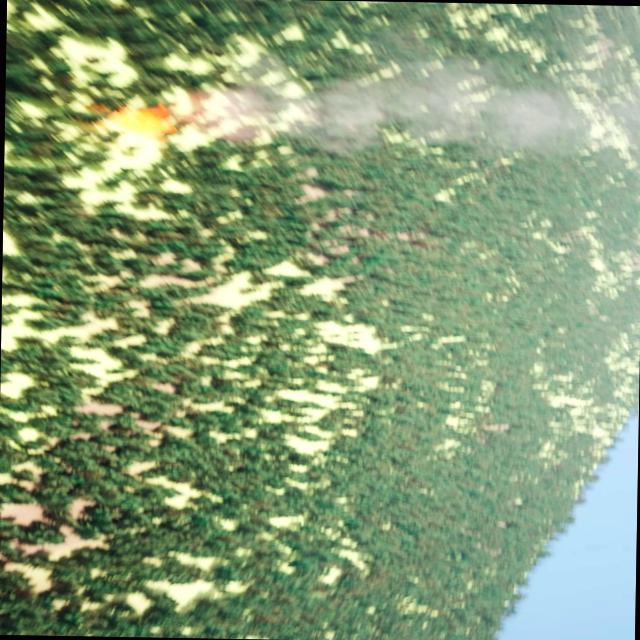fire: (79, 100, 178, 140)
smoke: (202, 32, 594, 154)
